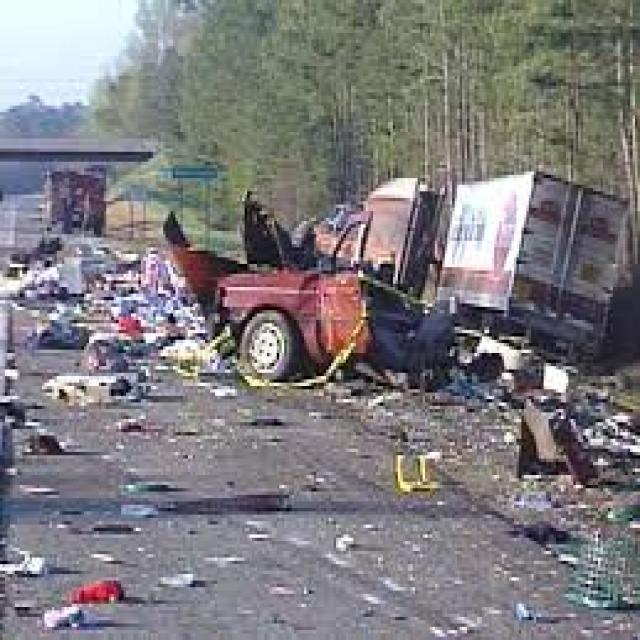accident: (122, 153, 640, 441)
